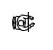Seat: (11, 13, 36, 32)
